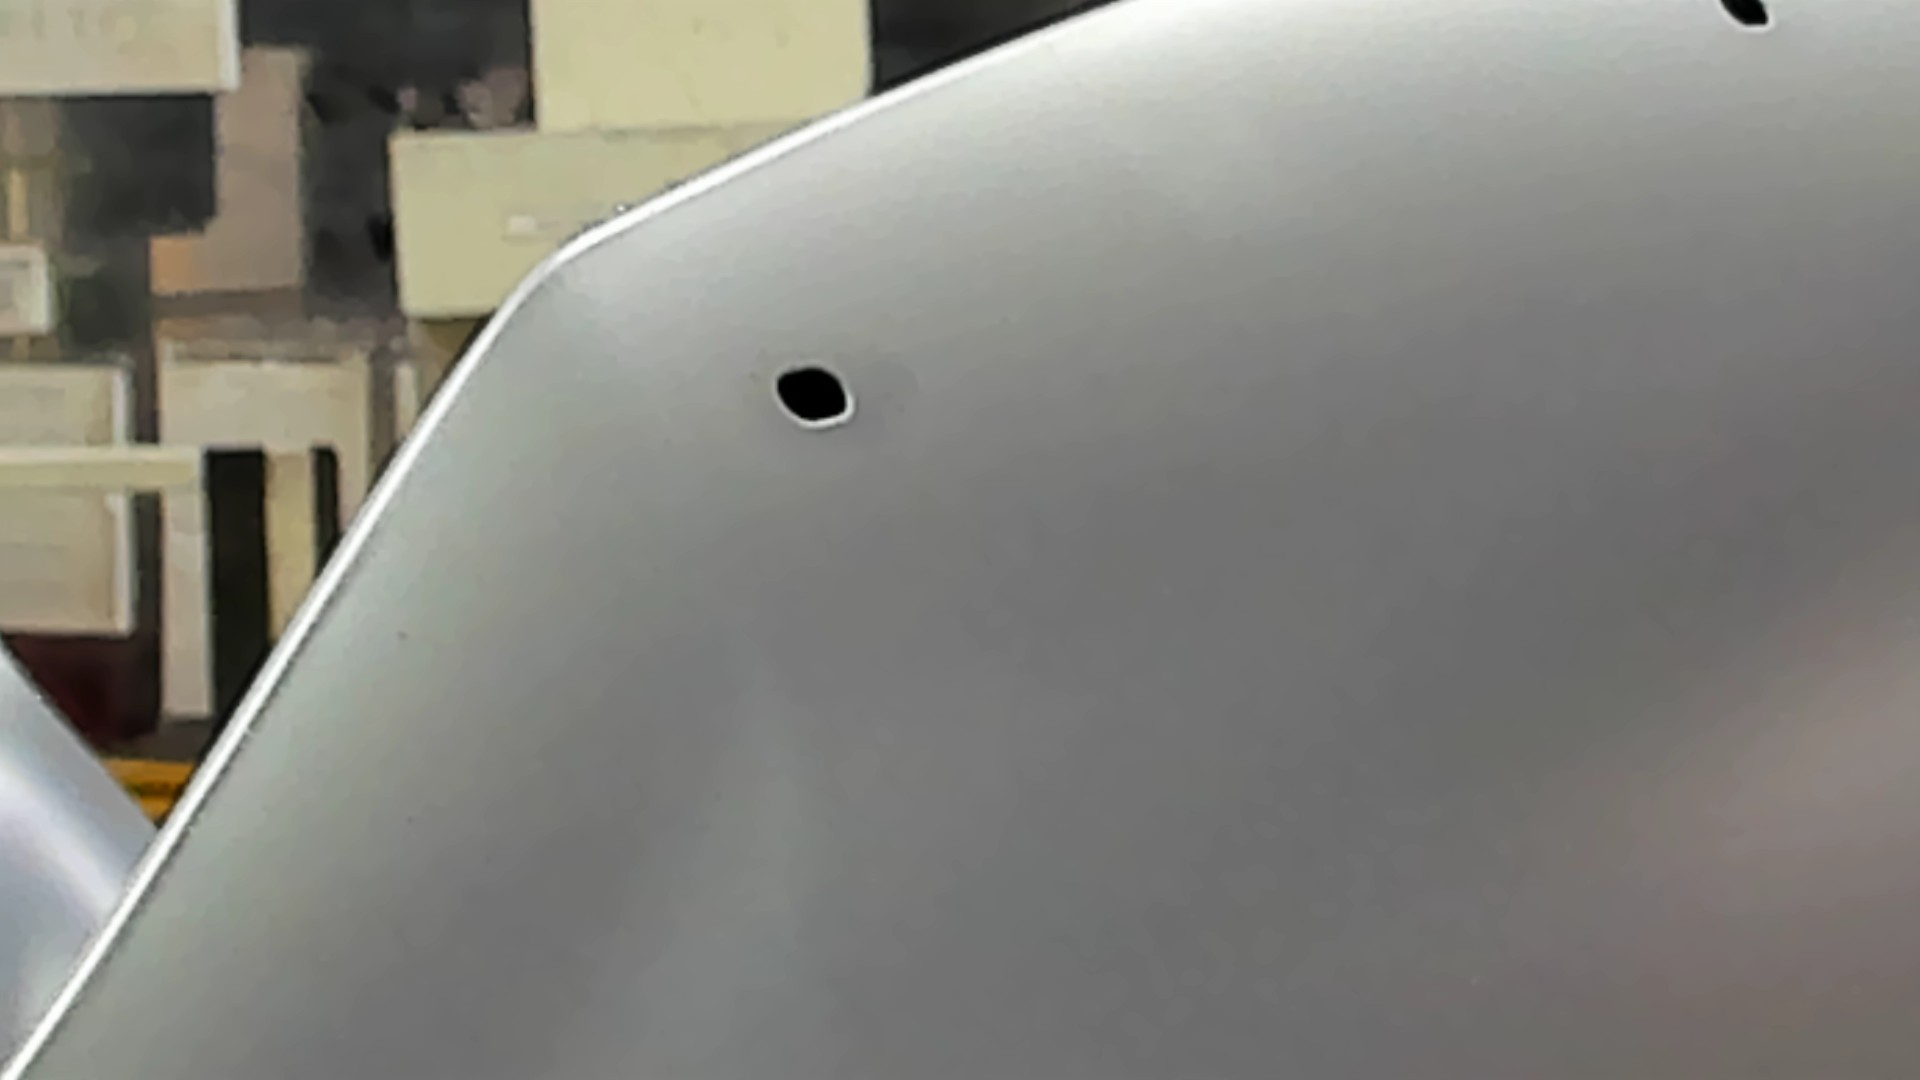amorfo: (766, 355, 862, 433), (1716, 1, 1778, 36)
capo: (955, 105, 1920, 1080)
